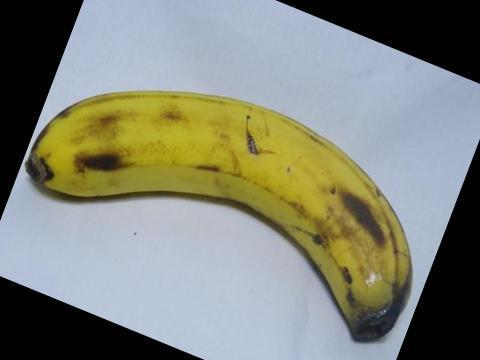ripe: (18, 70, 427, 356)
